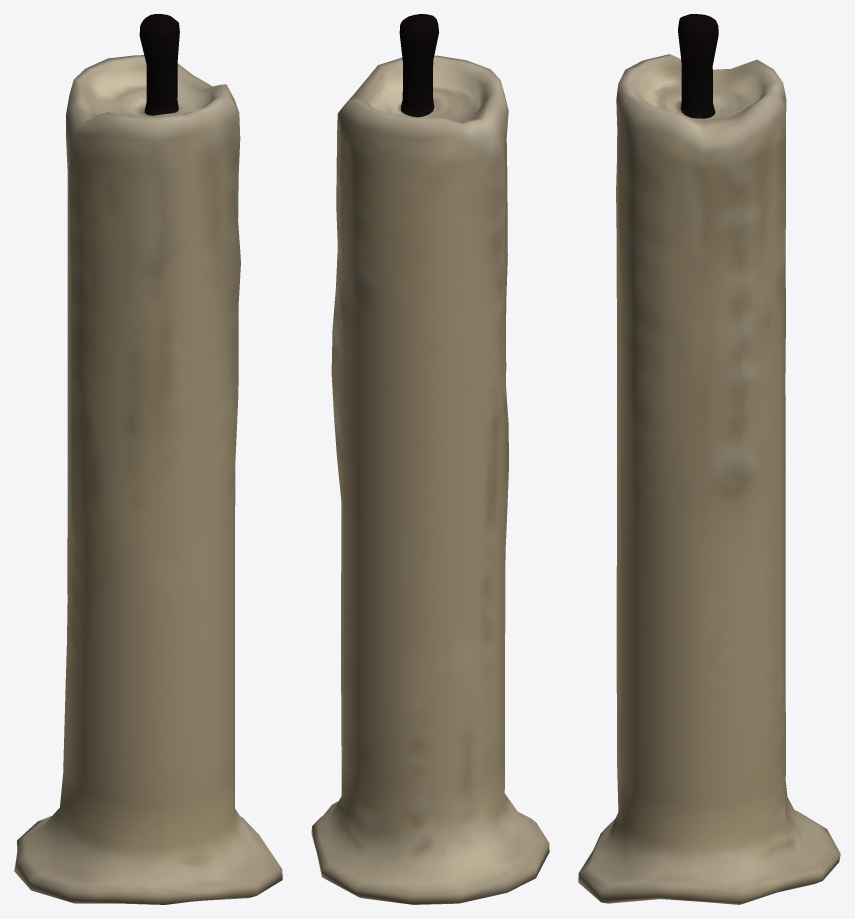
Rendered from candle_05.fbx.
3 renders of one model, left to right at view 1: azimuth 30°, elevation 25°; view 2: azimuth 150°, elevation 25°; view 3: azimuth 270°, elevation 25°, orthographic. The views are drawn at different scales.
Parts seen in each view (by area): view 1: Candle_005; view 2: Candle_005; view 3: Candle_005.
Part boxes in pixels (x1,y1,x2,y2): Candle_005: (14, 14, 282, 904); Candle_005: (311, 14, 549, 904); Candle_005: (578, 14, 840, 904).
Bounding box in the file's own units: 27.74 × 106 × 29.47.
